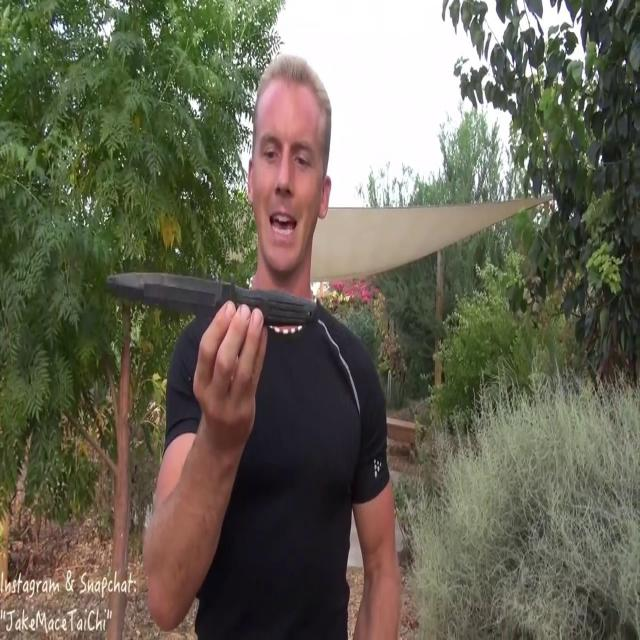knife: (99, 258, 328, 343)
